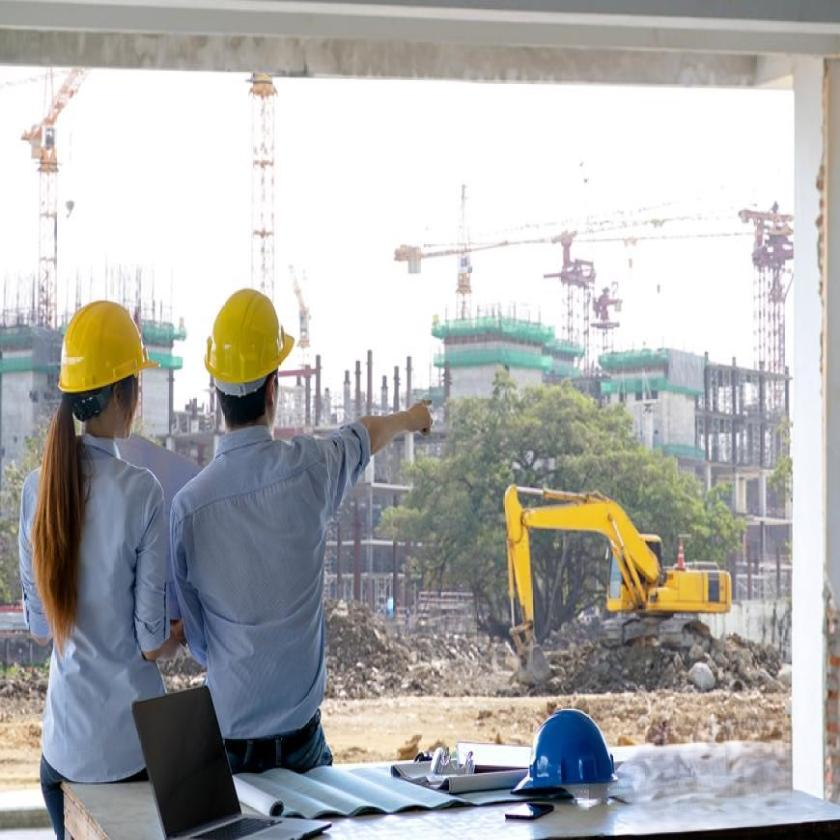Con_casco: (201, 282, 302, 452), (54, 298, 152, 457)
